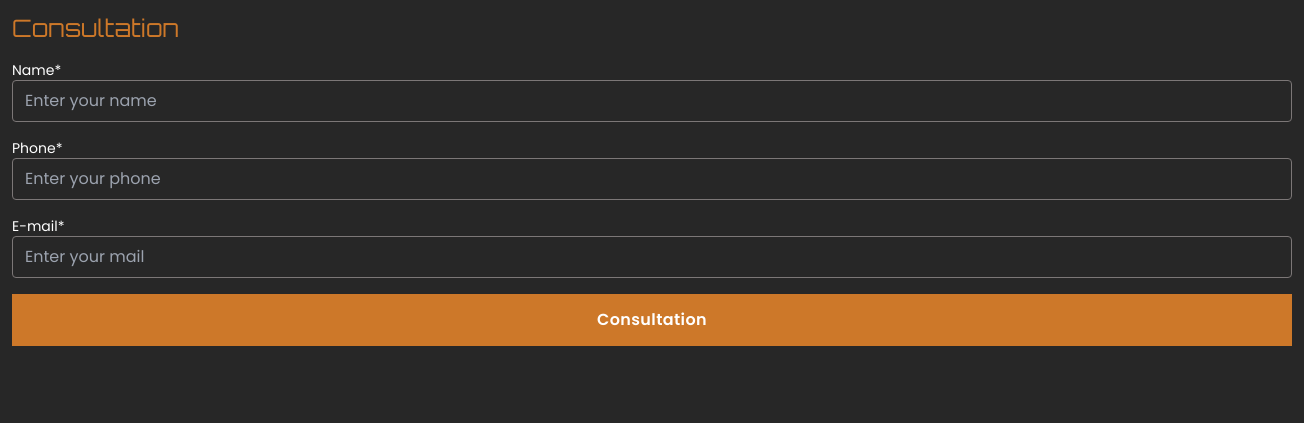
Test: ConsultationForm › shows validation errors when submitted empty
This screenshot has width=1304, height=423.
What coordinates should you click on to do the following:
click the button "Consultation"
I would click on:
 (652, 320)
Its box is left=12, top=294, right=1292, bottom=346.
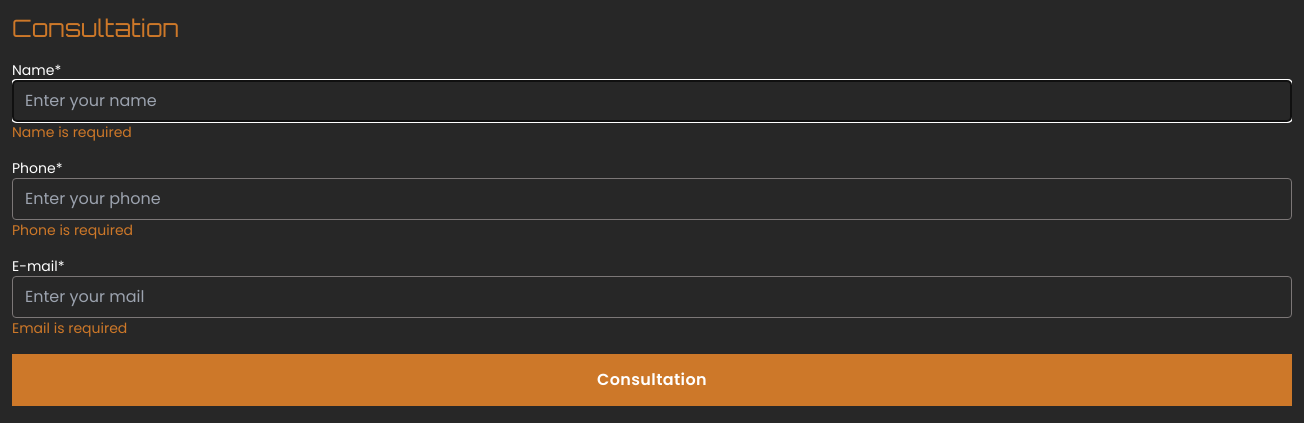
Expected: the text "Name is required" is shown, left=12, top=122, right=132, bottom=142
Expected: the text "Phone is required" is shown, left=12, top=220, right=133, bottom=240
Expected: the text "Email is required" is shown, left=12, top=318, right=127, bottom=338
